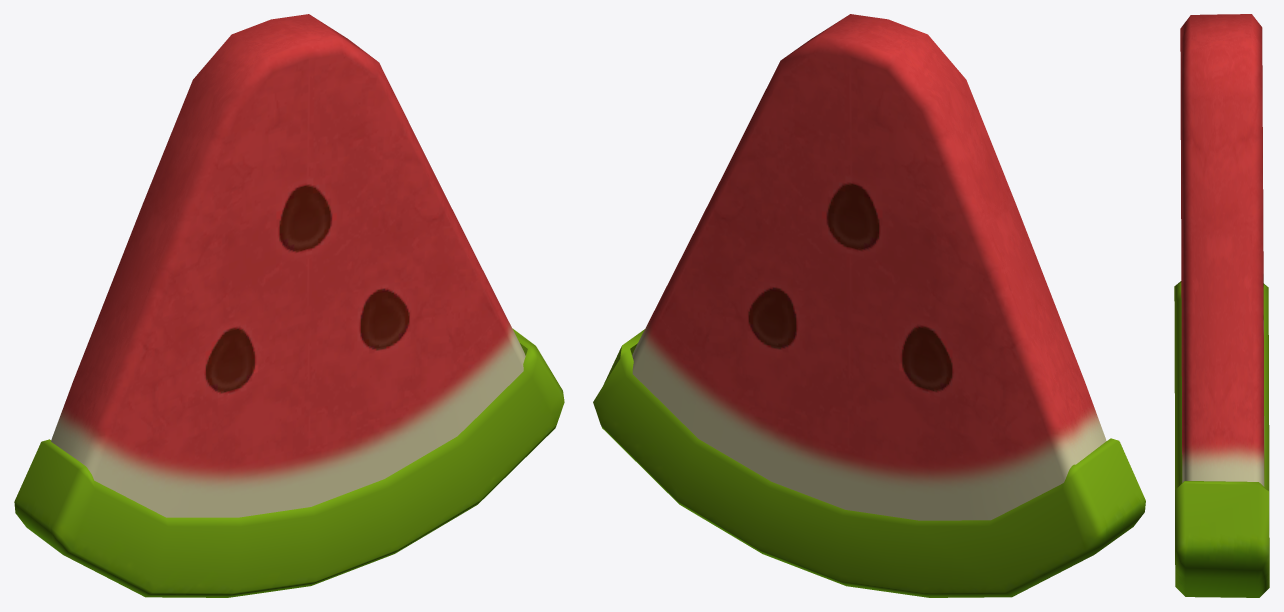
File: 0-watermelon.fbx
3 views of the same model, side by side, from view 1: azimuth 30°, elevation 25°; view 2: azimuth 150°, elevation 25°; view 3: azimuth 270°, elevation 25° (orthographic). The views are drawn at different scales.
Visible parts, largest first — view 1: 0-watermelon; view 2: 0-watermelon; view 3: 0-watermelon.
Part boxes in pixels (left/top/right/bottom): 0-watermelon: left=14, top=14, right=564, bottom=597; 0-watermelon: left=593, top=14, right=1145, bottom=597; 0-watermelon: left=1174, top=14, right=1269, bottom=597.
Size of the model in its own units: 79.85 by 80.86 by 13.2.
